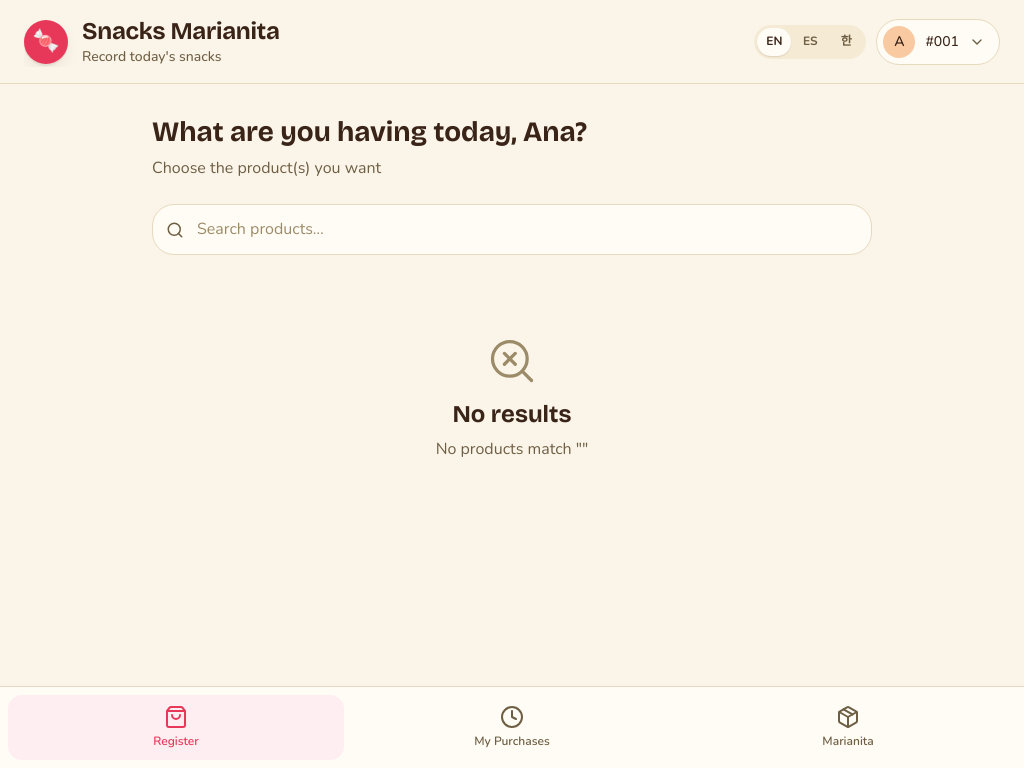
Scenario: App — navegación › navegar a "Marianita" muestra la pantalla de PIN
Expected: the text "Marianita" is shown, [822,733,874,750]
Click the button "Marianita": [848, 728] box [680,695,1016,760]
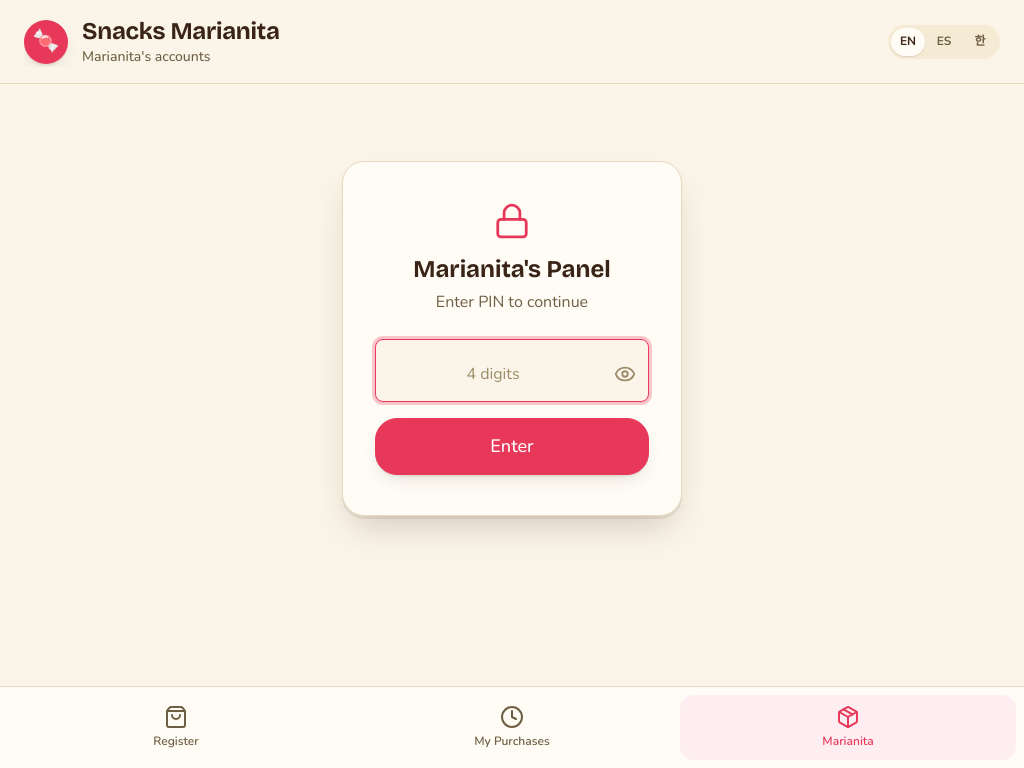
Expected: the password field with placeholder "4 digits" is shown, [375,338,649,402]
